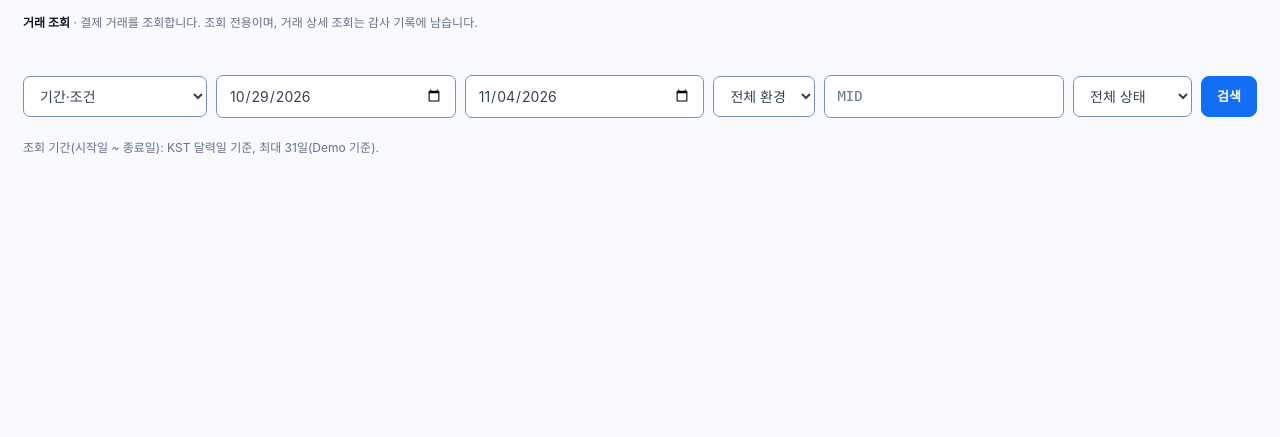
Test: TransactionsScreen (TXN-OPS-001 §7 AC 10 — read-only transaction lookup) › T-E5-1·T-E5-4 (TXN-LIST-ENRICH-001) merchant and payment method columns; the label state is per page — an UNAVAILABLE page shows the MID and one note
Click the button "검색" at [1229, 96], box [1201,76,1257,117]
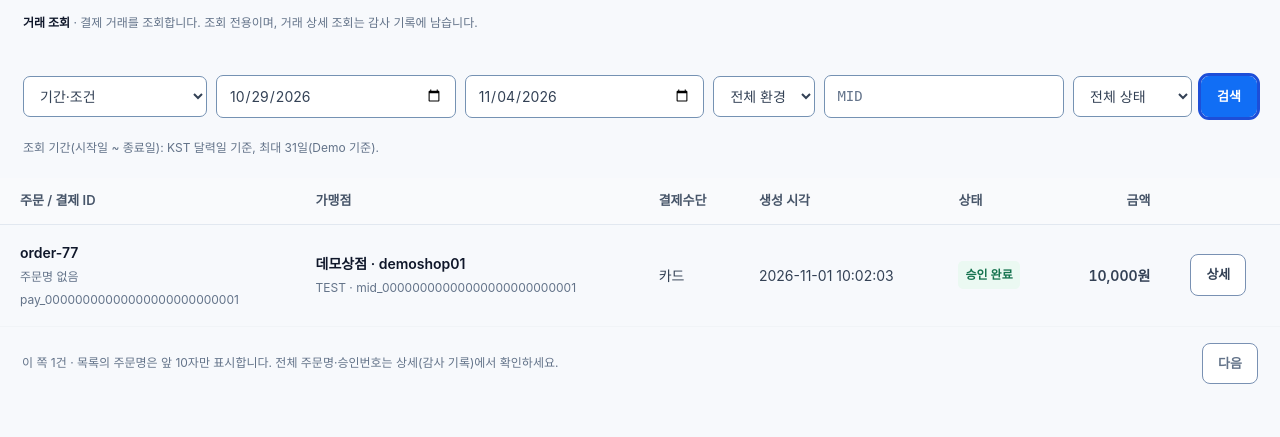
Expected: the text "가맹점 정보를 불러오지 못했어요" is not shown
Result: the column heading "가맹점" is shown at [296,178,639,224]
Result: the column heading "결제수단" is shown at [639,178,739,224]
Click the button "다음" at [1230, 363], box [1202,343,1258,384]
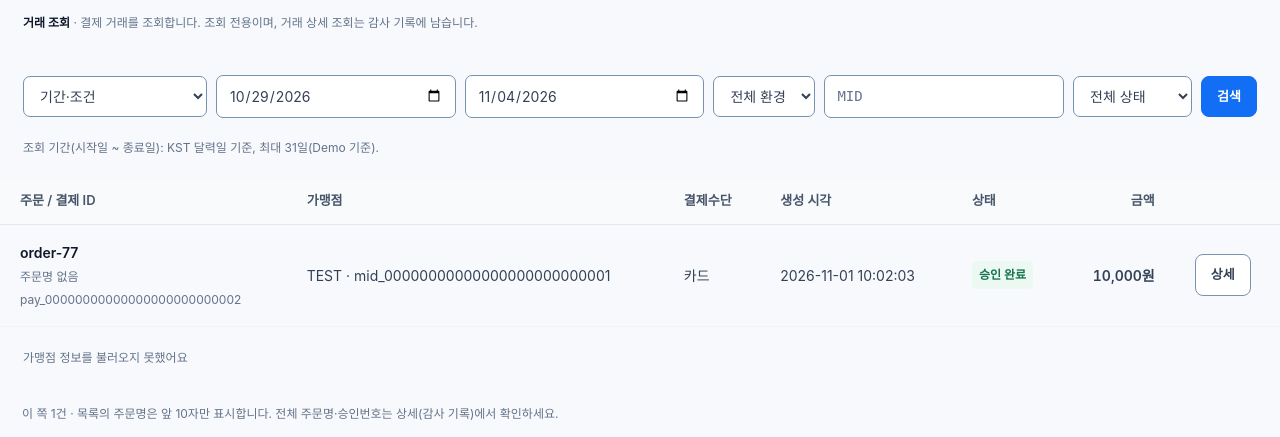
Result: the text "가맹점 정보를 불러오지 못했어요" is shown once at [23,350,188,365]
